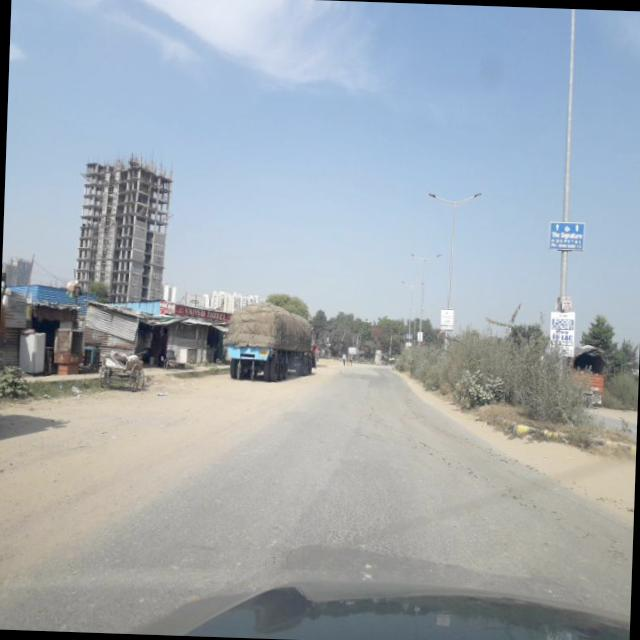crack: (291, 464, 496, 560)
